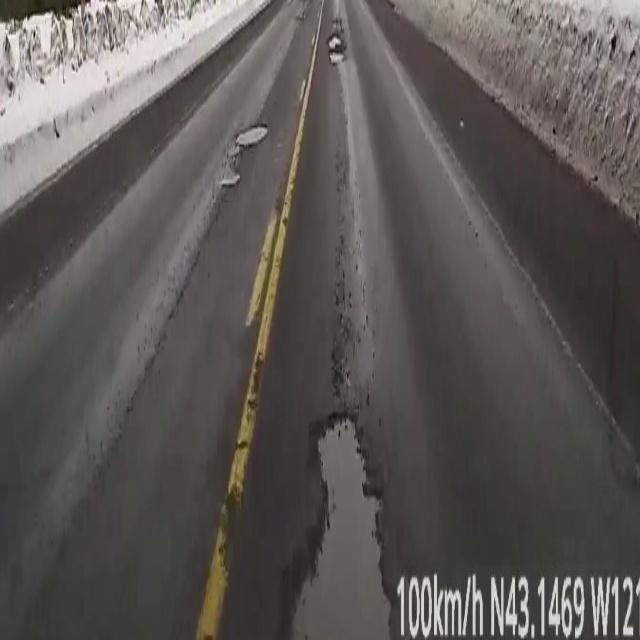pothole: (281, 407, 401, 640), (220, 122, 266, 188), (326, 12, 344, 64)
